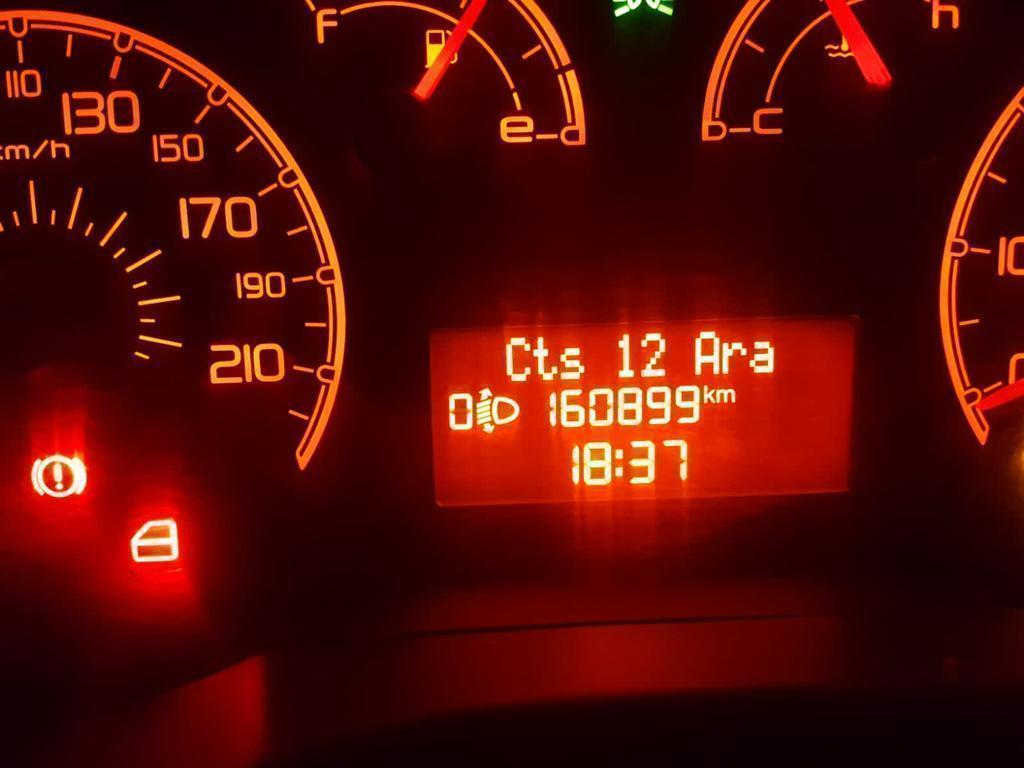0: (587, 386, 614, 428), (447, 391, 472, 430)
1: (616, 331, 636, 380), (569, 442, 581, 487), (546, 389, 558, 430)
2: (640, 330, 668, 377)
3: (629, 438, 655, 485)
6: (559, 388, 585, 428)
7: (662, 437, 689, 483)
8: (583, 441, 612, 486), (617, 385, 643, 426)
9: (646, 385, 672, 426), (675, 383, 700, 424)
X: (504, 336, 532, 383), (694, 328, 720, 375), (533, 335, 558, 382), (558, 345, 586, 381), (747, 341, 775, 374), (721, 340, 747, 375), (613, 445, 625, 479), (715, 386, 736, 404), (703, 383, 715, 405)
odometer: (419, 308, 872, 517)
